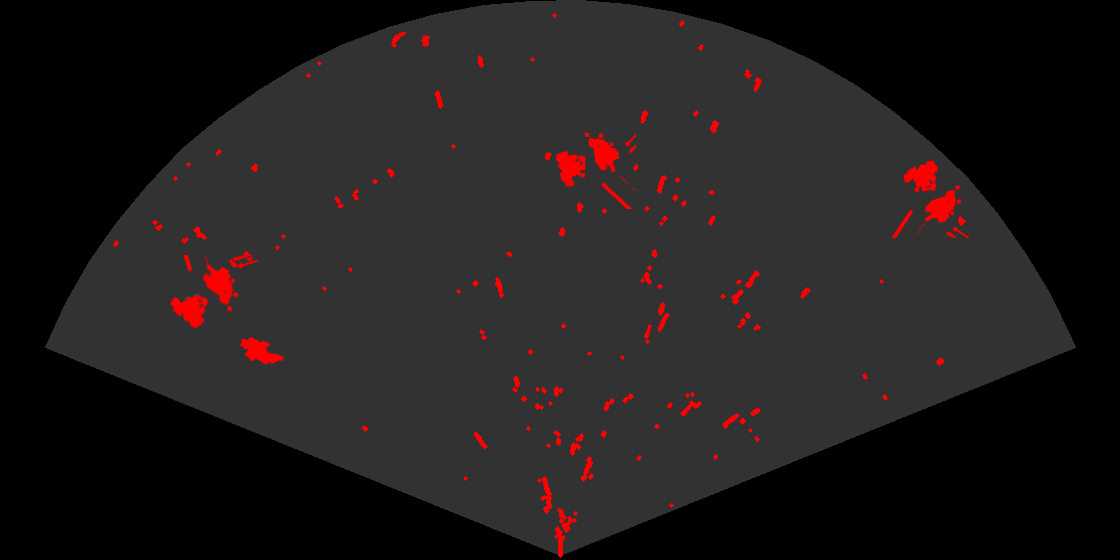AUV: (238, 336, 286, 366)
cage: (168, 255, 258, 330), (890, 159, 971, 238), (554, 131, 636, 209)
